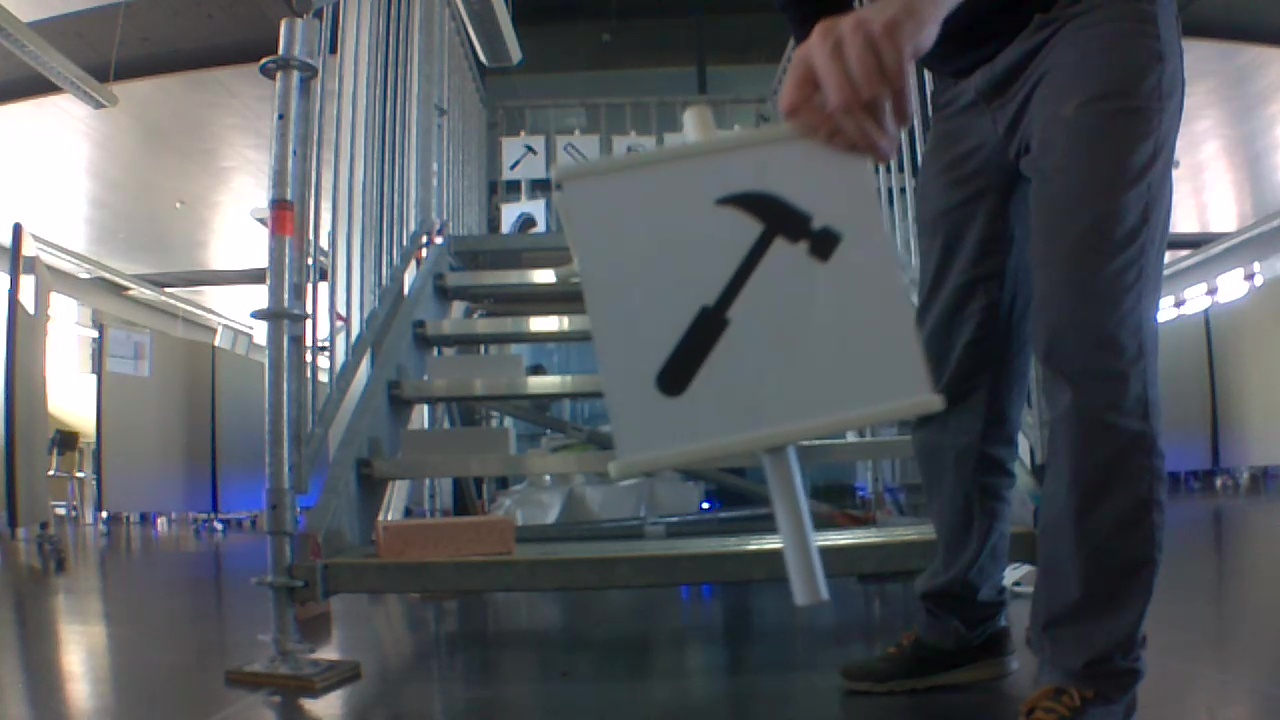brick: (377, 512, 517, 560), (393, 422, 515, 460), (429, 352, 524, 382)
hammer: (649, 177, 853, 405), (508, 141, 541, 174)
taco: (505, 210, 542, 234)
